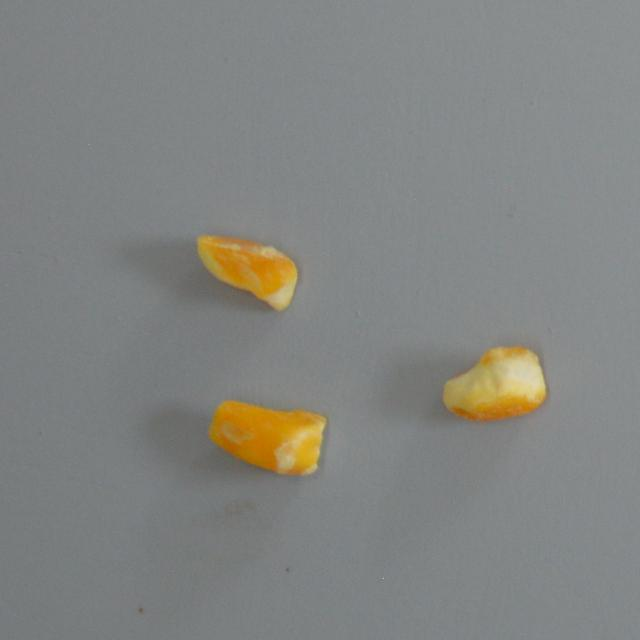estandar: (433, 338, 551, 422)
pelicula: (205, 394, 329, 476), (192, 224, 301, 315)
